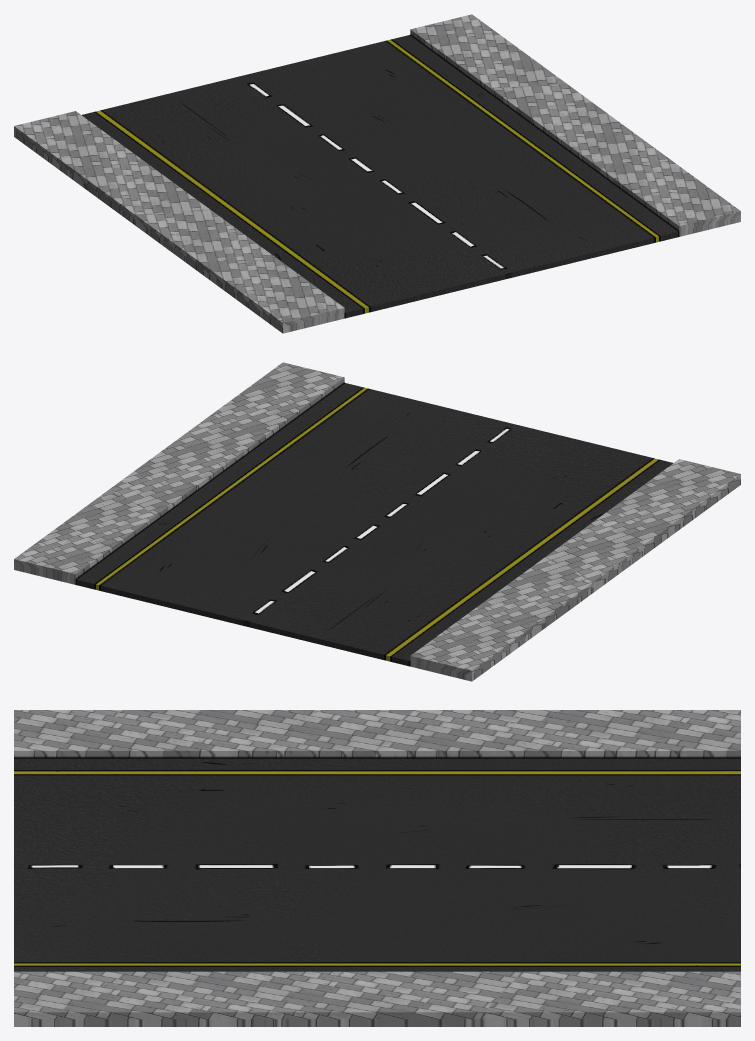
The model's file is straight road done.0001.fbx.
3 renders of one model, top to bottom at view 1: azimuth 30°, elevation 25°; view 2: azimuth 150°, elevation 25°; view 3: azimuth 270°, elevation 25°, orthographic. The views are drawn at different scales.
Visible parts, largest first — view 1: polySurface1; view 2: polySurface1; view 3: polySurface1.
Boxes of the visible parts, x1,y1,x2,y2 form: polySurface1: [14, 14, 740, 333]; polySurface1: [14, 362, 740, 681]; polySurface1: [14, 710, 740, 1026].
Bounding box in the file's own units: 8.9 × 0.2 × 9.05.
